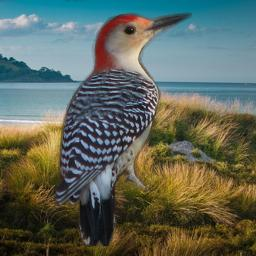Woodpecker: (54, 12, 192, 246)
